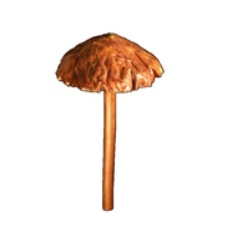mushroom: (55, 30, 167, 212)
